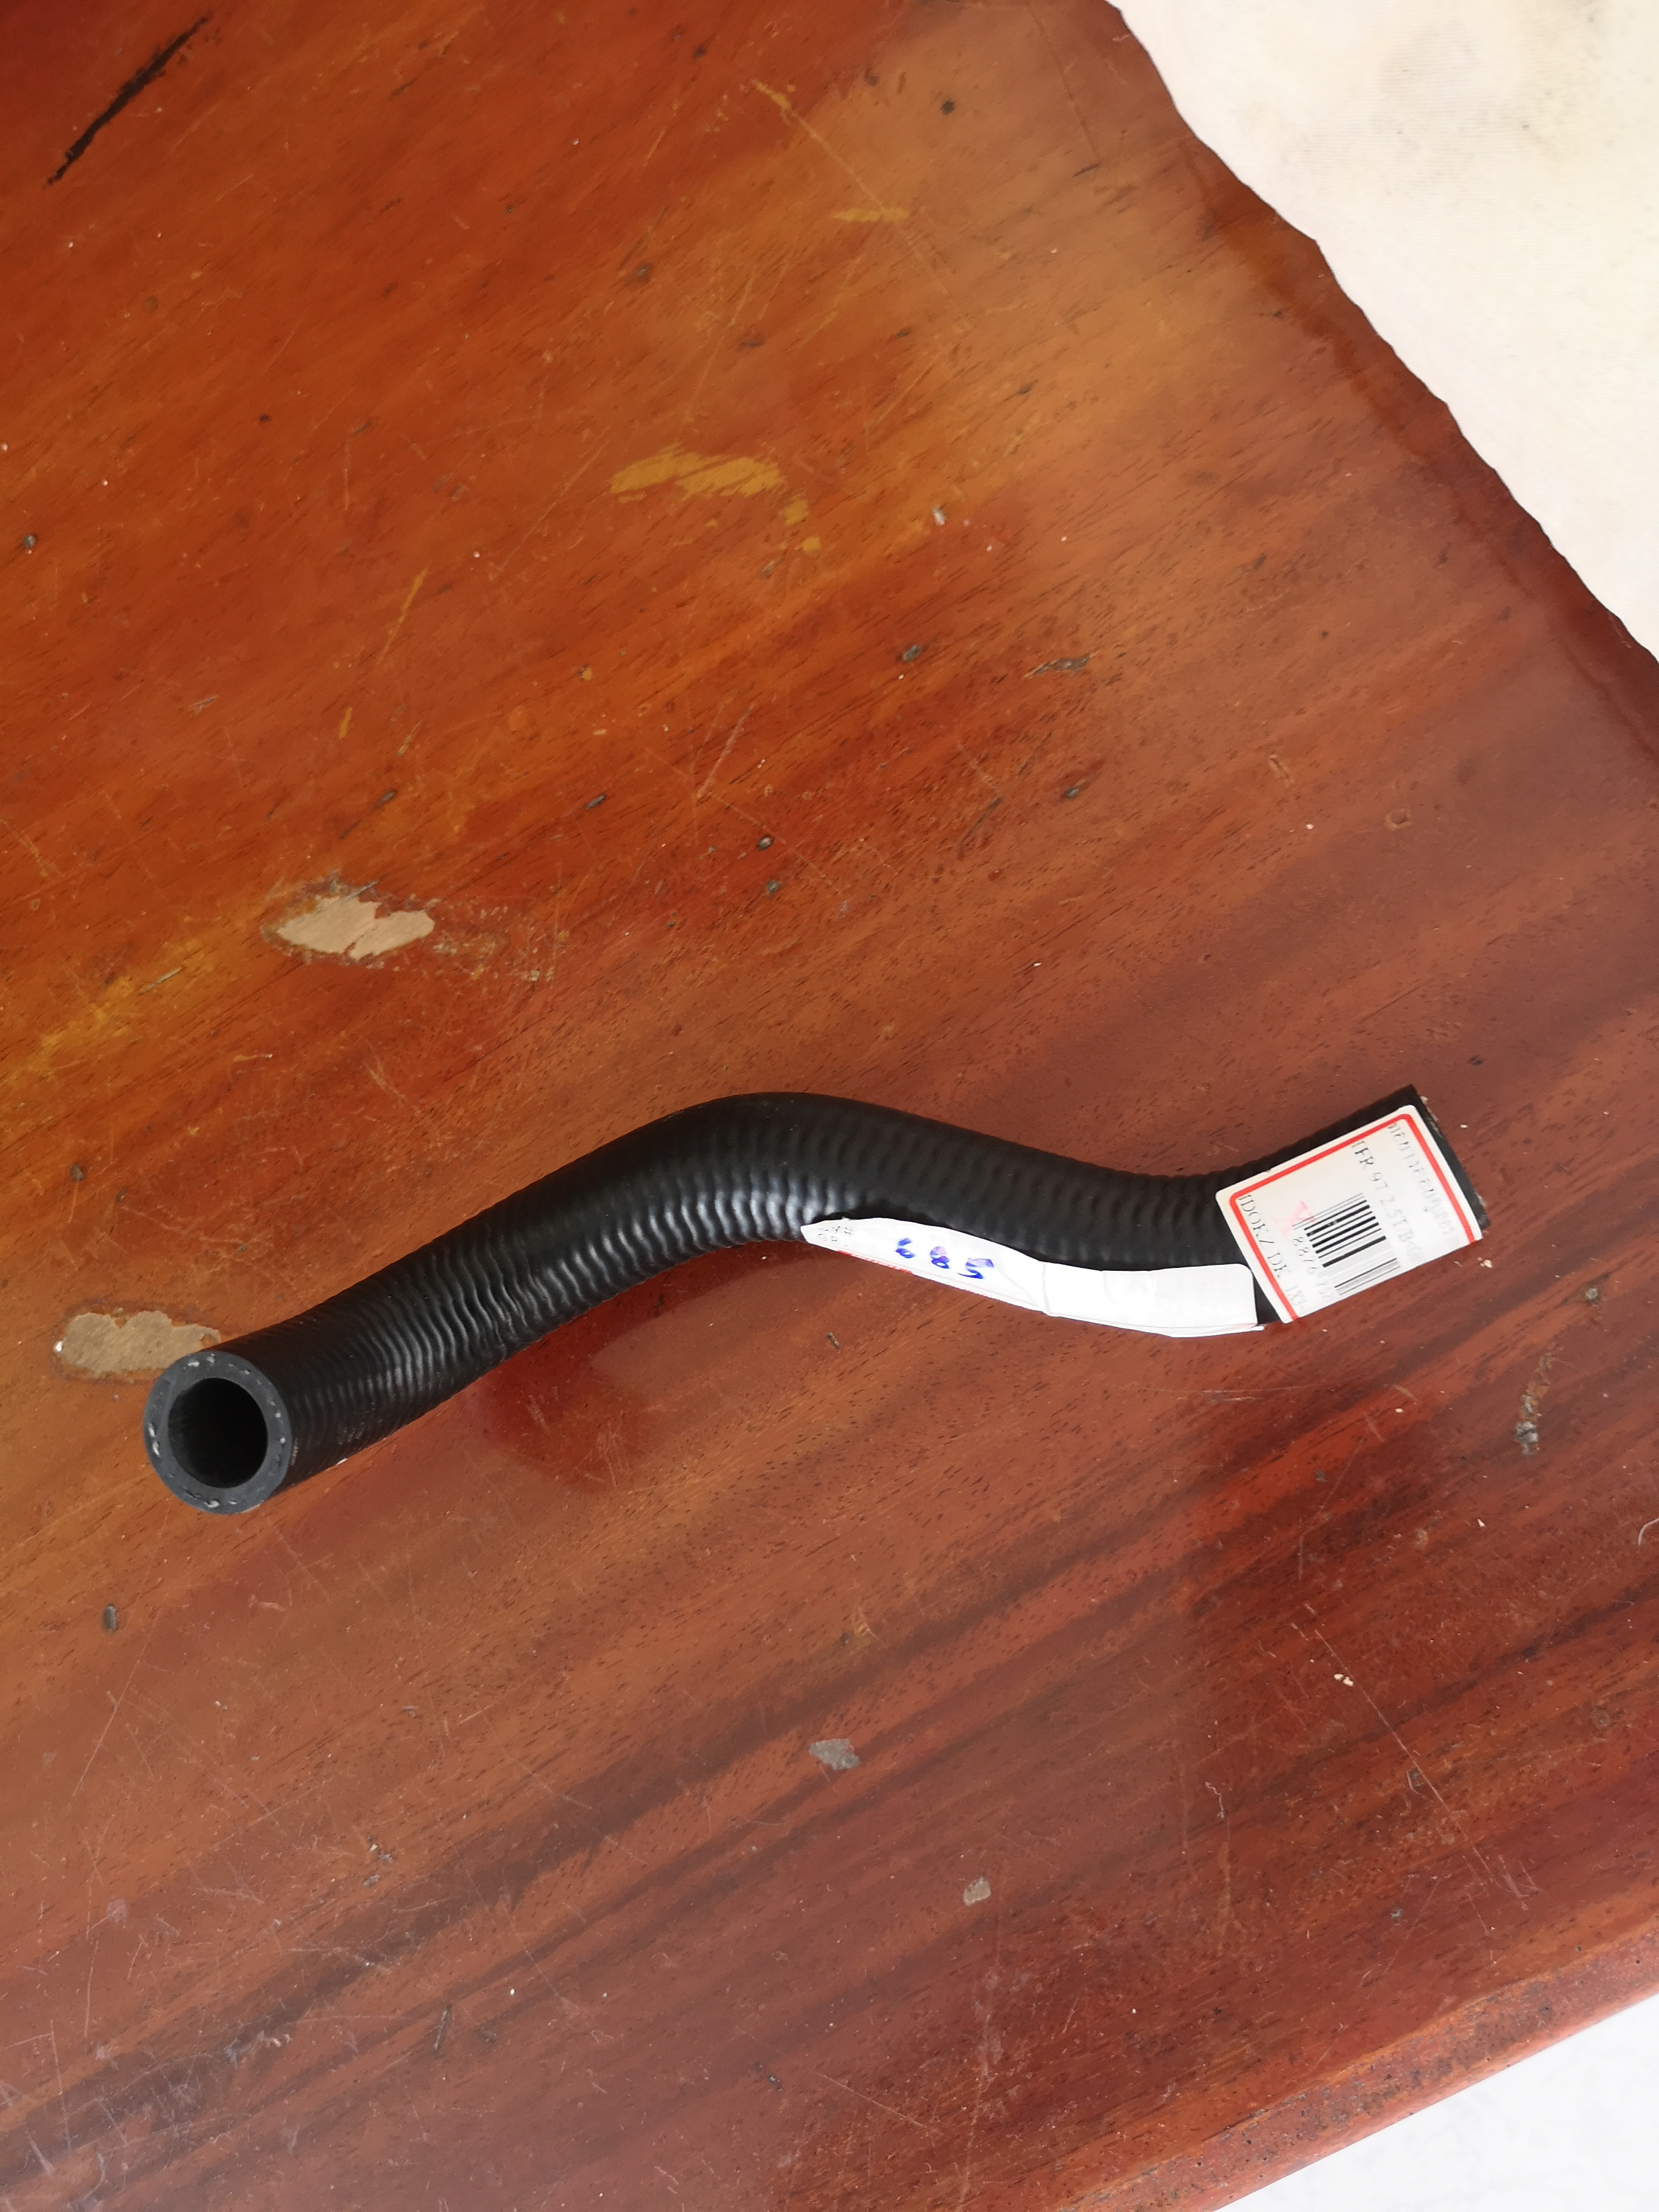ท่อยางน้ำมันเลี้ยงเทอร์โบ: (108, 1043, 1642, 1447)
